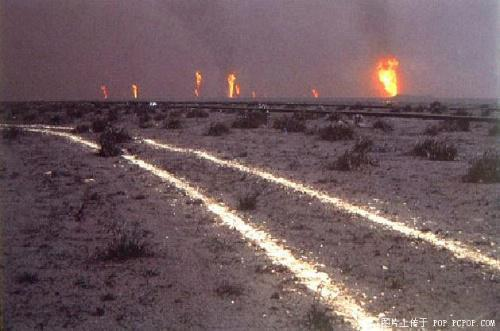fire: (370, 53, 402, 99), (224, 69, 242, 100), (191, 70, 203, 101), (96, 80, 111, 101), (128, 80, 138, 98), (310, 85, 320, 98)
